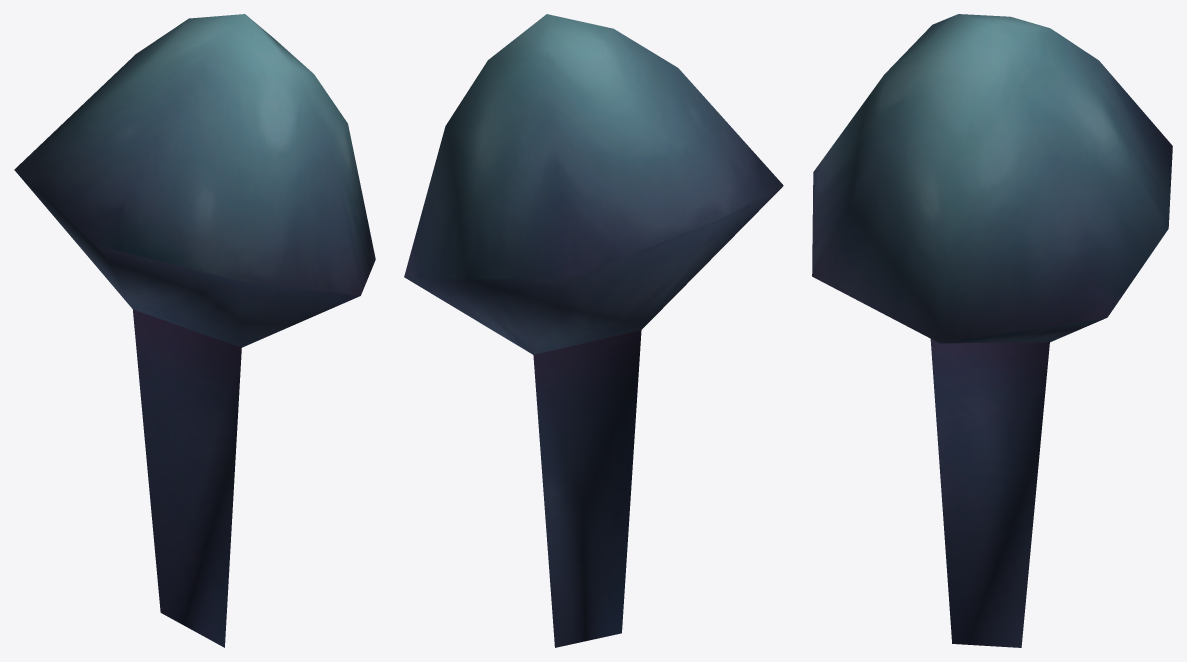
File: TwistedJungle_Mushroom07.FBX
3 views of the same model, side by side, from view 1: azimuth 30°, elevation 25°; view 2: azimuth 150°, elevation 25°; view 3: azimuth 270°, elevation 25° (orthographic). The views are drawn at different scales.
Parts seen in each view (by area): view 1: TwistedJungle_Mushroom07; view 2: TwistedJungle_Mushroom07; view 3: TwistedJungle_Mushroom07.
Part boxes in pixels (x1,y1,x2,y2): TwistedJungle_Mushroom07: (14,14,375,647); TwistedJungle_Mushroom07: (404,14,783,647); TwistedJungle_Mushroom07: (812,14,1172,647).
Bounding box in the file's own units: 38.81 × 74.19 × 37.91.
